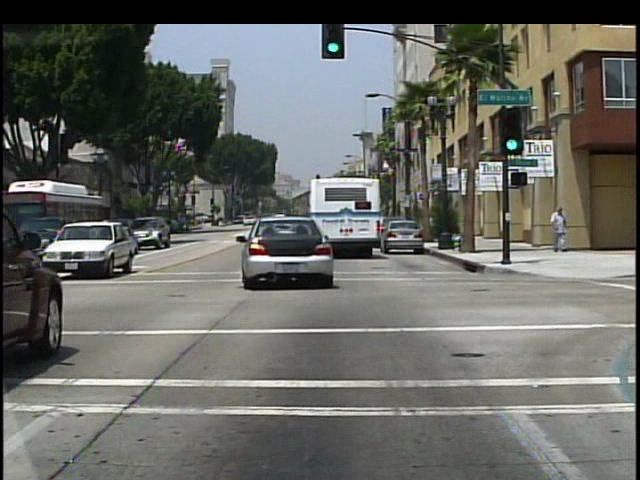person: (549, 206, 569, 255)
